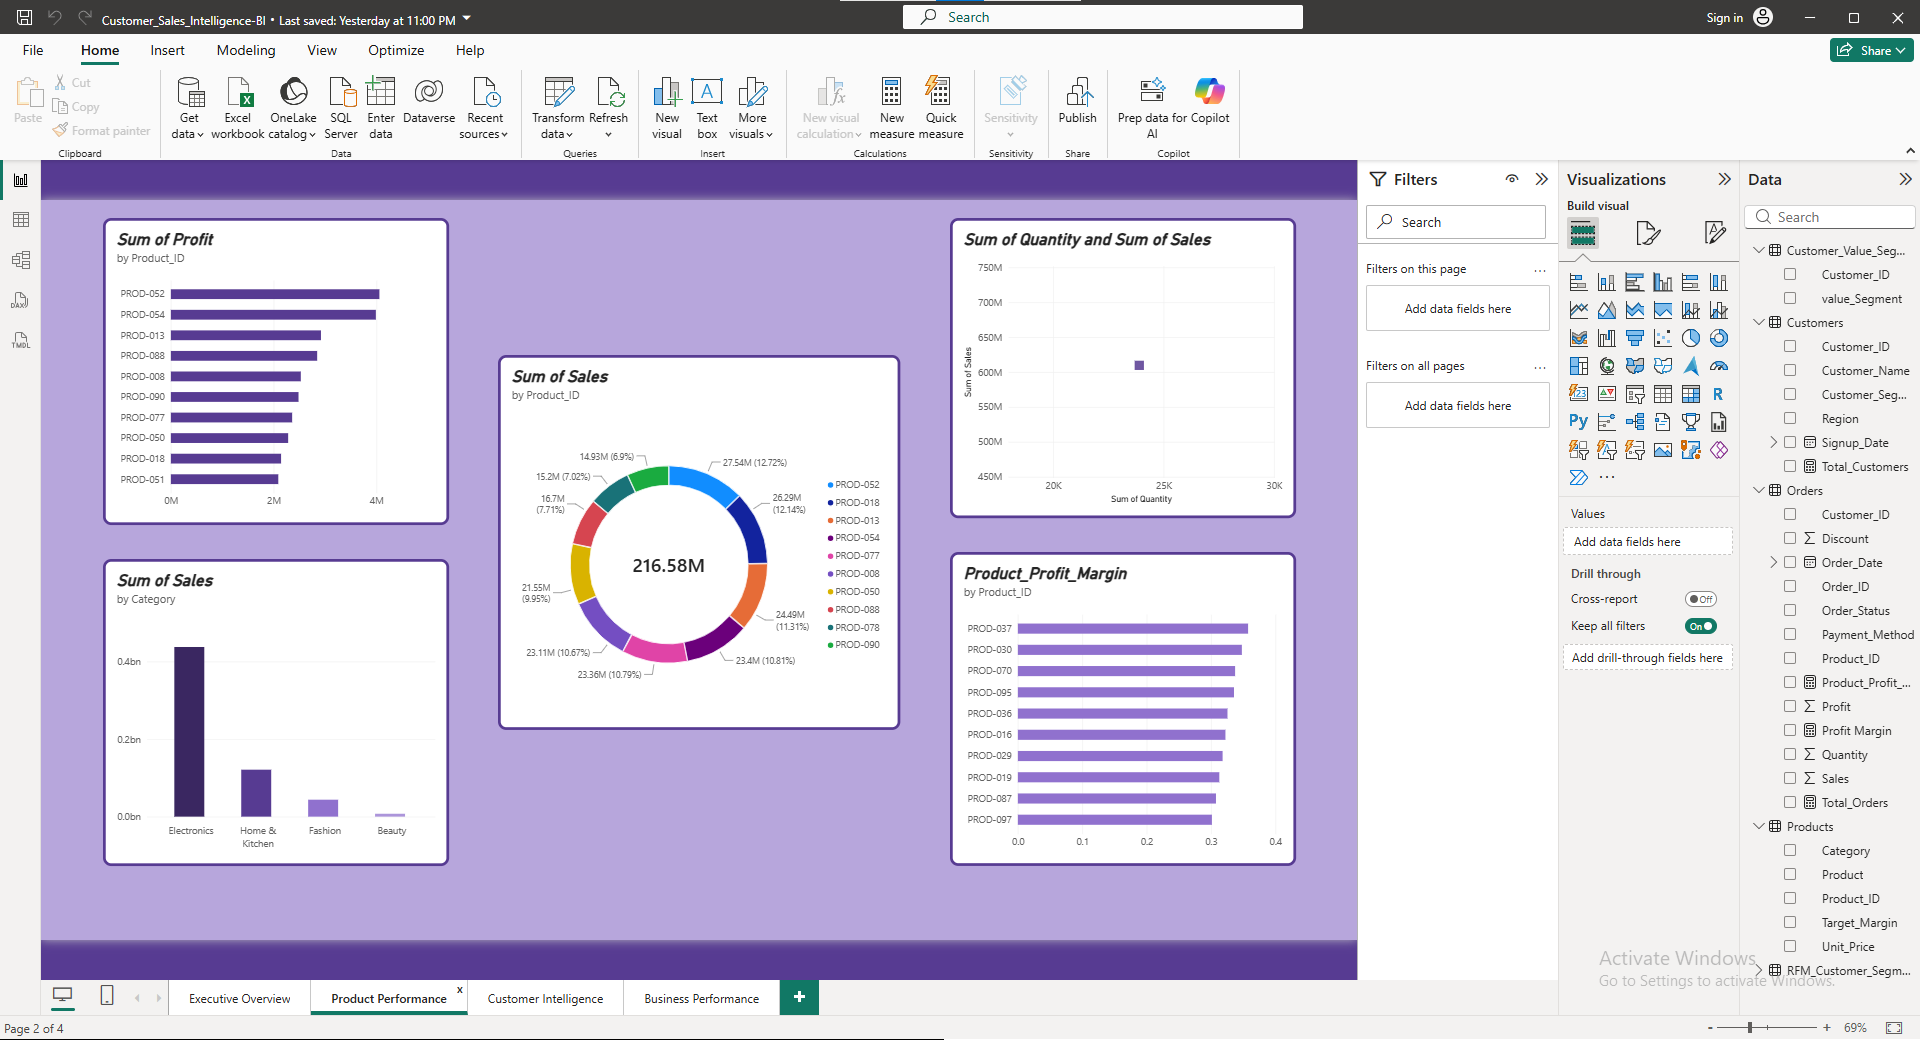

What the dashboard file says about the page in this screenshot:
{"tool":"powerbi","page":{"name":"Product Performance","canvas":[1920,1080],"ordinal":1},"visuals":[{"type":"donutChart","fields":{"Category":["Products.Product_ID"],"Y":["Sum(Orders.Sales)"]},"box":[666.7,226.1,586.5,547.1],"z":0},{"type":"clusteredBarChart","fields":{"Category":["Orders.Product_ID"],"Y":["Sum(Orders.Profit)"]},"box":[90.5,26.3,504.8,447.9],"z":1000},{"type":"clusteredColumnChart","fields":{"Category":["Products.Category"],"Y":["Sum(Orders.Sales)"]},"box":[90.5,523.8,504.8,447.9],"z":2000},{"type":"clusteredBarChart","fields":{"Category":["Orders.Product_ID"],"Y":["Orders.Product_Profit_Margin"]},"box":[1326.2,513.6,504.8,458.1],"z":3000},{"type":"scatterChart","fields":{"X":["Sum(Orders.Quantity)"],"Y":["Sum(Orders.Sales)"]},"box":[1326.2,26.3,504.8,437.7],"z":4000}]}

Visuals, with their boxes on the page's 1920x1080 design canvas (x1, y1, x2, y2). These are canvas units, not pixel positions in the 1920x1040 screenshot, which may show the page scaled, cropped or inside an application window:
donutChart - Products.Product_ID x Sum(Orders.Sales): [667,226,1253,773]
clusteredBarChart - Orders.Product_ID x Sum(Orders.Profit): [90,26,595,474]
clusteredColumnChart - Products.Category x Sum(Orders.Sales): [90,524,595,972]
clusteredBarChart - Orders.Product_ID x Orders.Product_Profit_Margin: [1326,514,1831,972]
scatterChart - Sum(Orders.Quantity) x Sum(Orders.Sales): [1326,26,1831,464]
